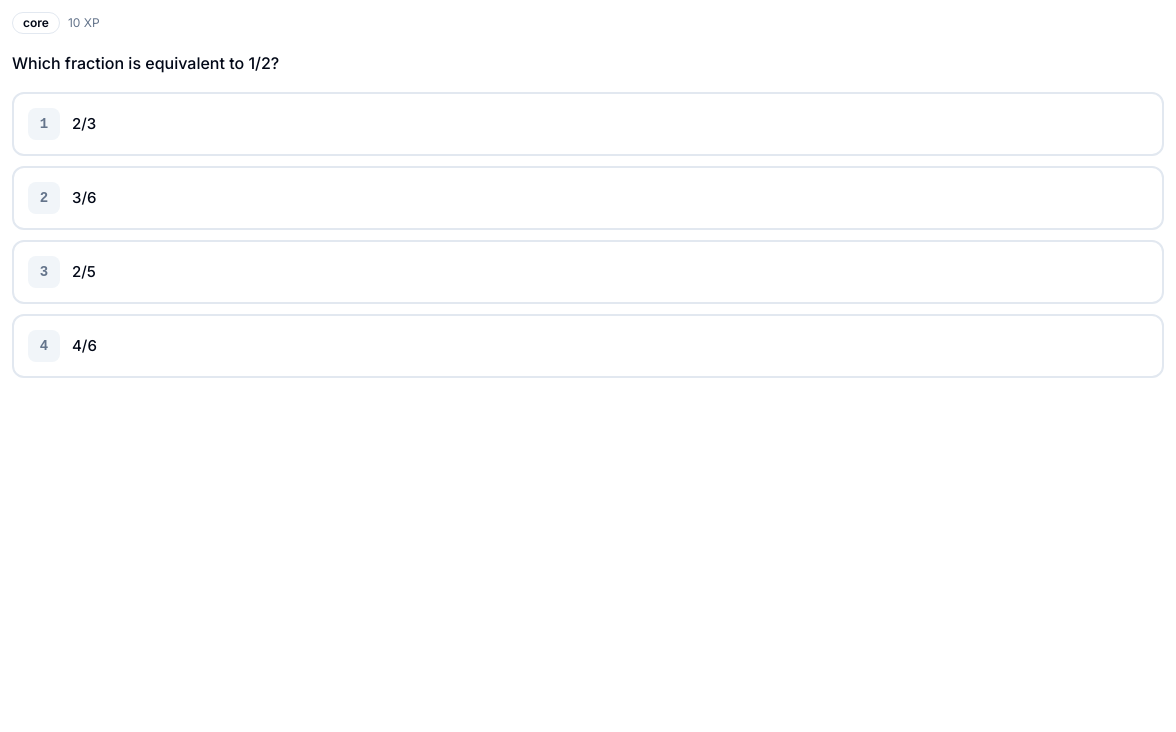
Test: QuestionShell › eliminate-and-retry mode › still shows Try again on oneShot questions when wrong
This screenshot has width=1176, height=732.
Click the text "2/3" at (84, 124), box [72,114,96,134]
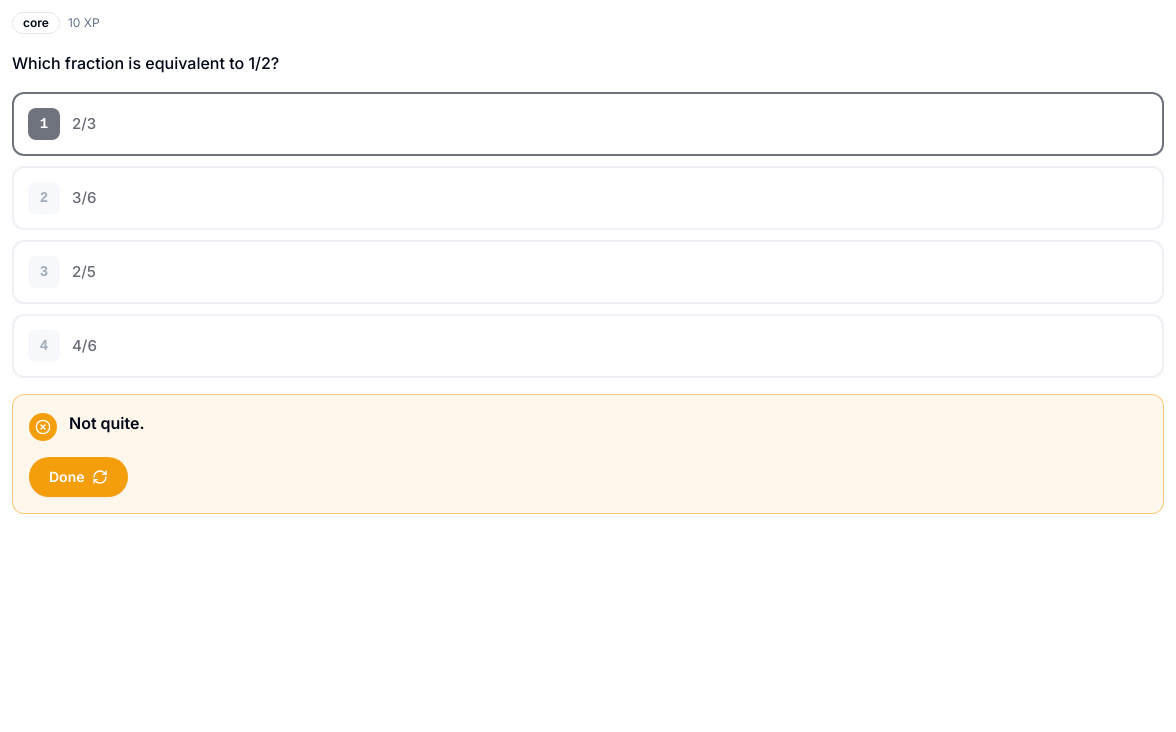
Expected: the button "Done" is shown, [29,457,128,497]
